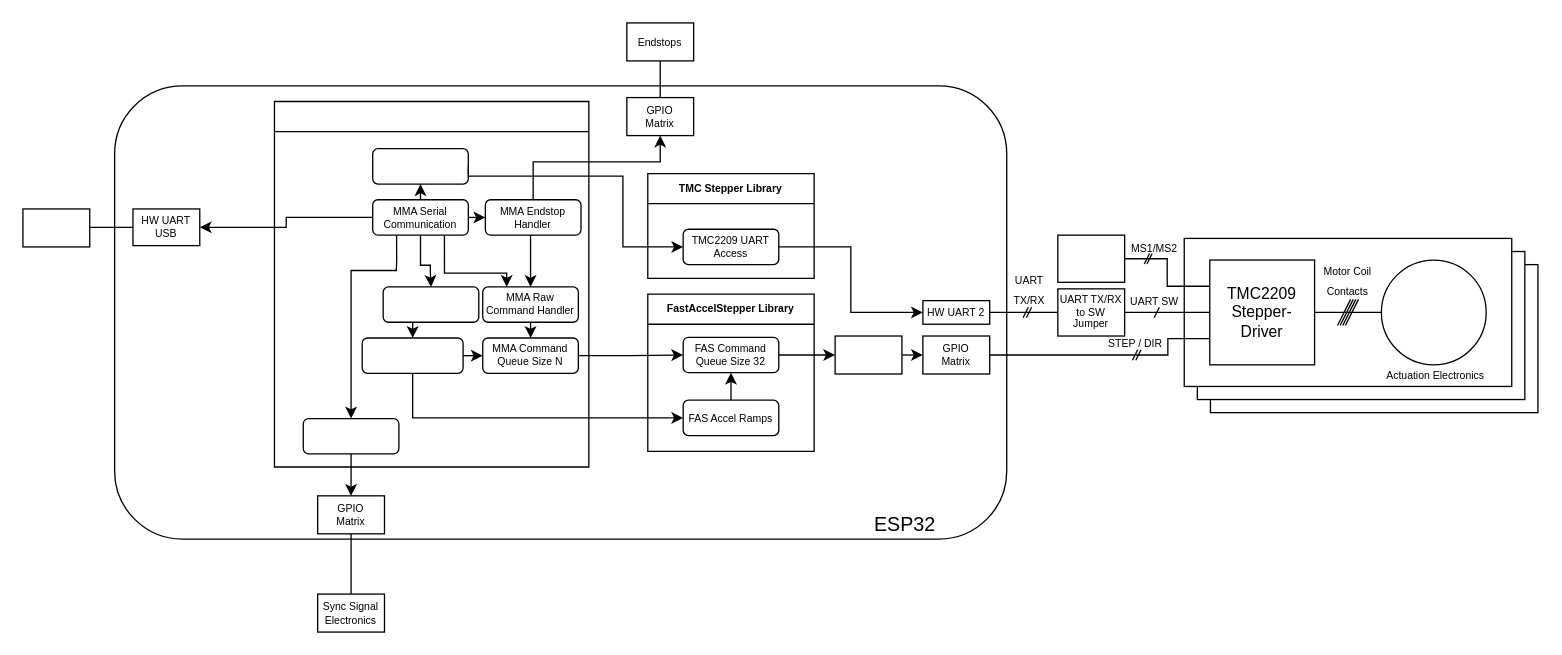
Image size: 1562x655. Some labels were removed from this diagram. Here are the shapes that lost their labels. From the top down, the box of each, then its label:
(371, 147, 468, 184): MMA Driver Settings Handler
(22, 208, 90, 247): PC
(1057, 234, 1125, 282): UART Adress Jumper
(273, 100, 589, 467): MMA Stepper Control
(382, 286, 479, 322): MMA Abstract Command Handler
(1380, 259, 1486, 365): NEMA 17/23 Stepper
(361, 337, 463, 373): MMA Abstract Command Executer
(834, 335, 902, 374): MCPWM Module
(302, 417, 399, 454): MMA Sync Routine
